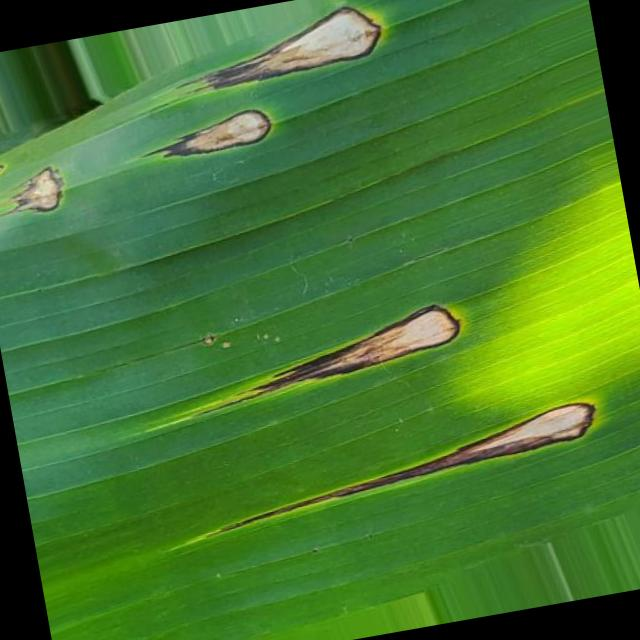Banana_Black_Sigatoka: (273, 259, 640, 539), (161, 0, 445, 184), (0, 123, 130, 265)
